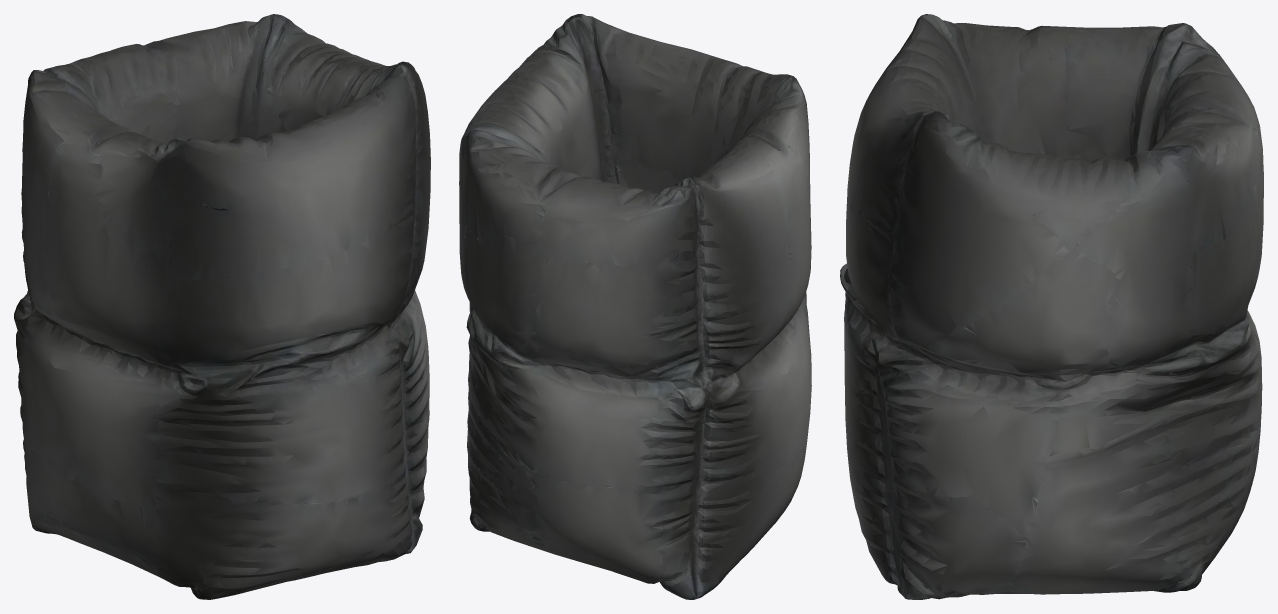
The model's file is 02_1_gs_pv_i_vase_v3.glb.
The picture shows the model from 3 angles, left to right: view 1: azimuth 30°, elevation 25°; view 2: azimuth 150°, elevation 25°; view 3: azimuth 270°, elevation 25°; orthographic projection. The views are drawn at different scales.
Parts seen in each view (by area): view 1: tripo_node_5fd5d630-b149-4866-8730-af3b3dad17c6; view 2: tripo_node_5fd5d630-b149-4866-8730-af3b3dad17c6; view 3: tripo_node_5fd5d630-b149-4866-8730-af3b3dad17c6.
Part boxes in pixels (left/top/right/bottom): tripo_node_5fd5d630-b149-4866-8730-af3b3dad17c6: left=14, top=14, right=430, bottom=599; tripo_node_5fd5d630-b149-4866-8730-af3b3dad17c6: left=459, top=14, right=811, bottom=599; tripo_node_5fd5d630-b149-4866-8730-af3b3dad17c6: left=840, top=14, right=1263, bottom=599.
Size of the model in its own units: 0.1859 by 0.25 by 0.189.
1 material, 1 textured.
